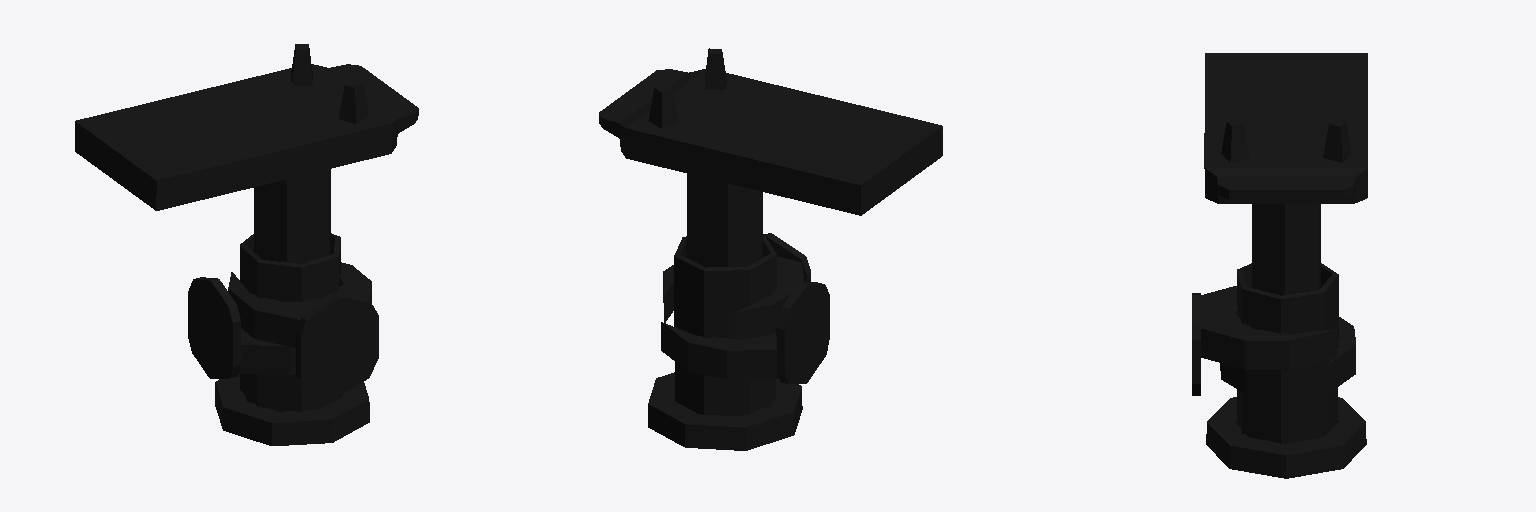
File: IKEA.ART.40205599.obj
The picture shows the model from 3 angles: view 1: azimuth 30°, elevation 25°; view 2: azimuth 150°, elevation 25°; view 3: azimuth 270°, elevation 25°; orthographic projection.
Parts seen in each view (by area): view 1: model_model.035; view 2: model_model.035; view 3: model_model.035.
Boxes of the visible parts, x1=… form: model_model.035: x1=75, y1=44, x2=418, y2=445; model_model.035: x1=599, y1=48, x2=942, y2=450; model_model.035: x1=1192, y1=53, x2=1367, y2=478.
Bounding box in the file's own units: 0.0985 × 0.1165 × 0.055.